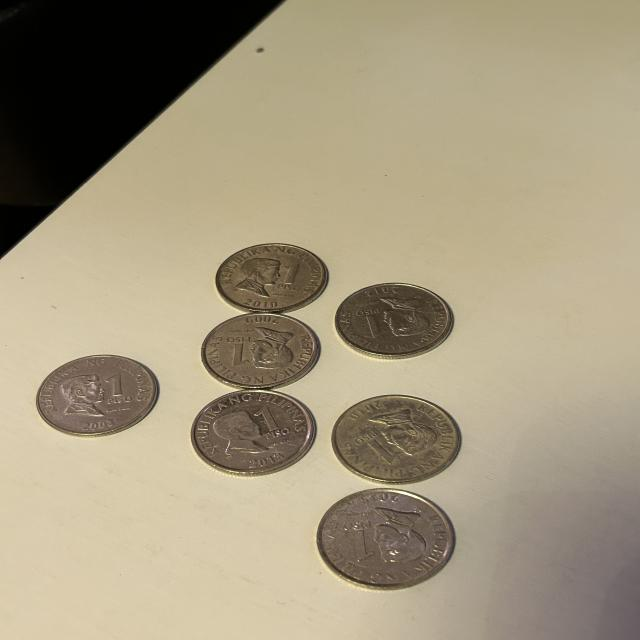1_Old_Front: (333, 518, 383, 564), (350, 430, 401, 471), (253, 404, 292, 449), (353, 302, 389, 345), (272, 262, 310, 300), (96, 370, 129, 410), (224, 332, 253, 369)
